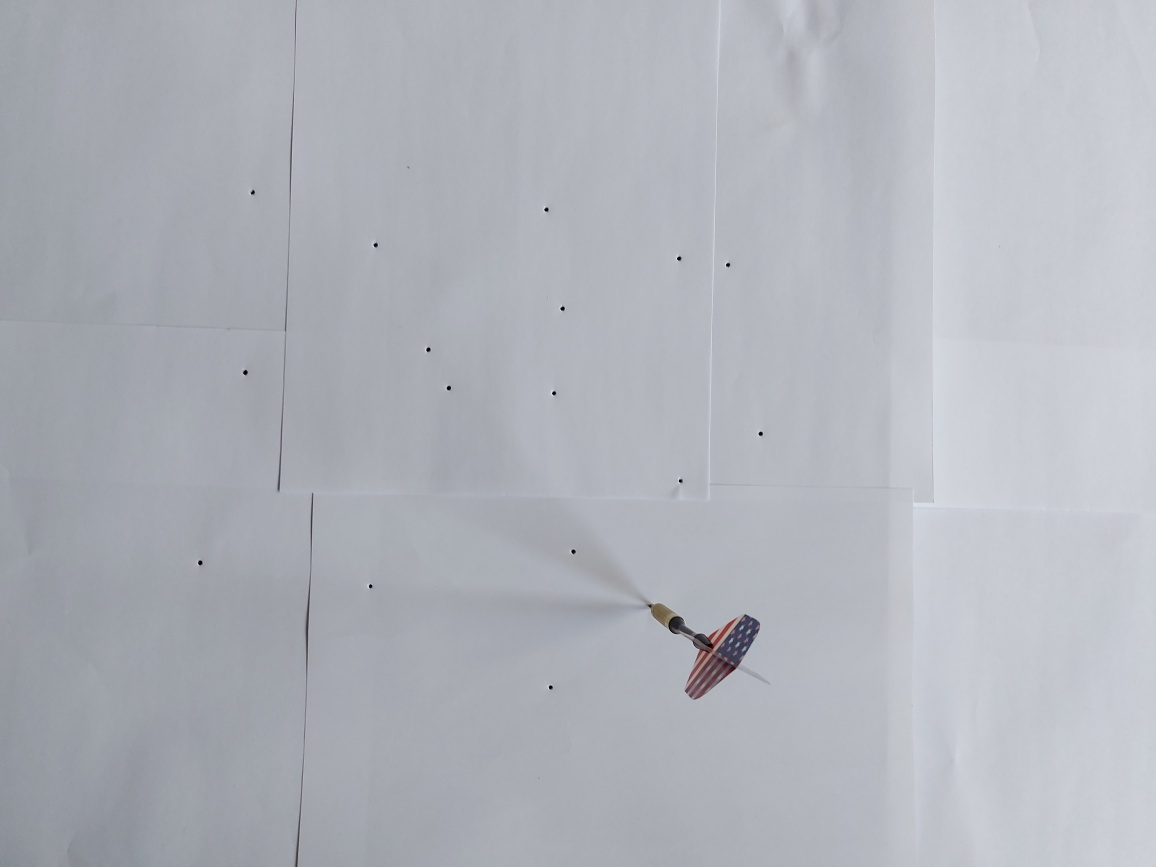Dart: (620, 579, 786, 719)
